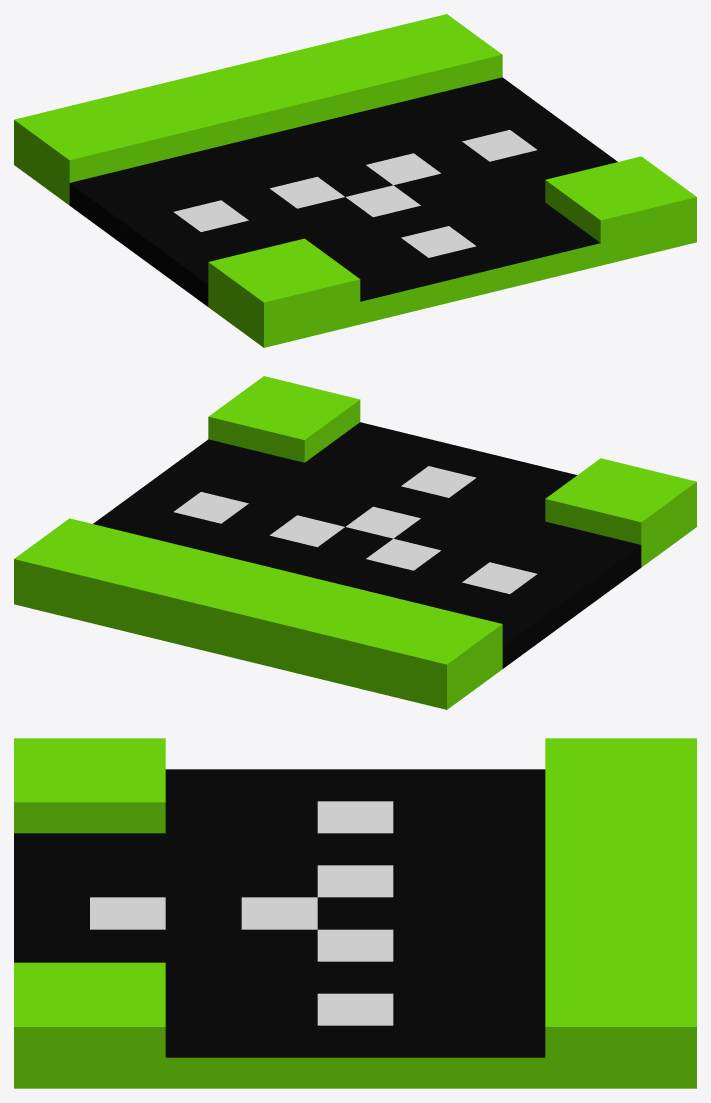
The model's file is RoadT.fbx.
3 views of the same model, one above another, from view 1: azimuth 30°, elevation 25°; view 2: azimuth 150°, elevation 25°; view 3: azimuth 270°, elevation 25° (orthographic). The views are drawn at different scales.
Parts seen in each view (by area): view 1: Road_T; view 2: Road_T; view 3: Road_T.
Part boxes in pixels (<box>): Road_T: <box>14,14,696,347</box>; Road_T: <box>14,376,696,709</box>; Road_T: <box>14,738,696,1088</box>.
Bounding box in the file's own units: 10 × 1 × 10.
